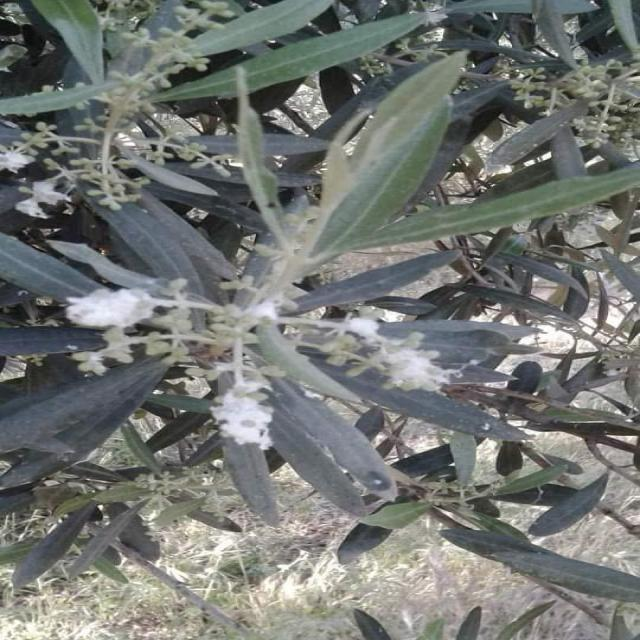Psyllid: (308, 317, 461, 391), (211, 377, 273, 450), (66, 289, 166, 328), (0, 150, 33, 173), (248, 299, 277, 322)
